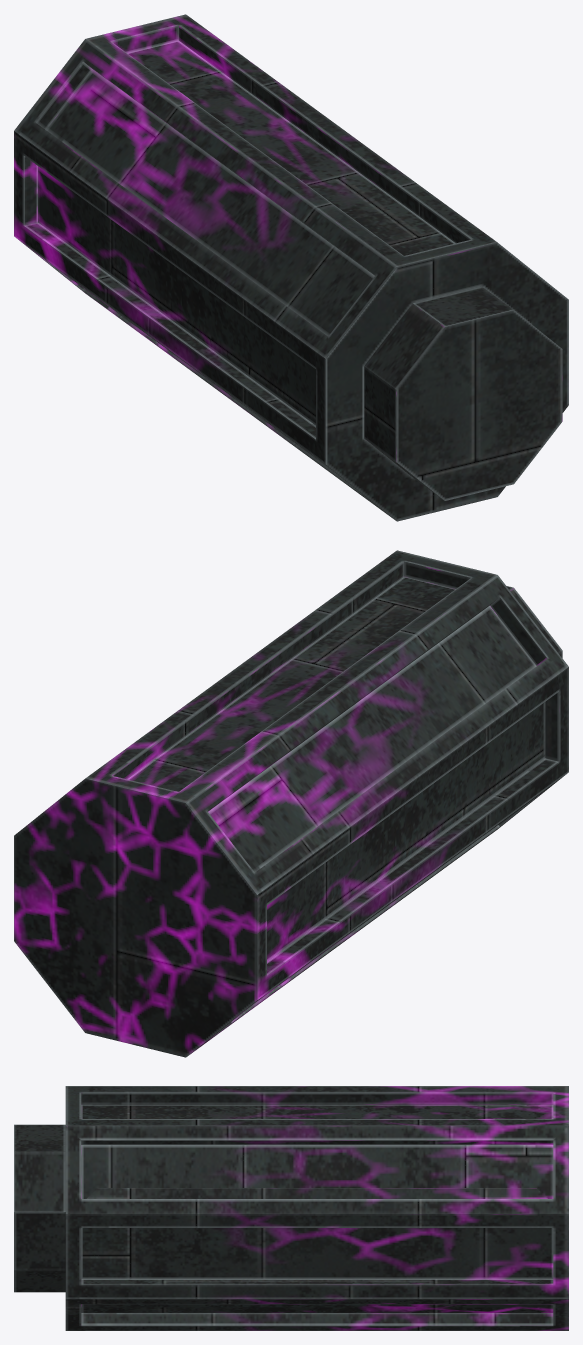
Rendered from WarpCorePipe.fbx.
The picture shows the model from 3 angles, top to bottom: view 1: azimuth 30°, elevation 25°; view 2: azimuth 150°, elevation 25°; view 3: azimuth 270°, elevation 25°; orthographic projection. The views are drawn at different scales.
Visible parts, largest first — view 1: Cylinder.196; view 2: Cylinder.196; view 3: Cylinder.196.
Part boxes in pixels (box(x1,y1,x2,y2)): Cylinder.196: box(14, 14, 568, 521); Cylinder.196: box(14, 550, 568, 1057); Cylinder.196: box(14, 1086, 568, 1330).
Bounding box in the file's own units: 185 × 185 × 453.
1 material, 1 textured.
